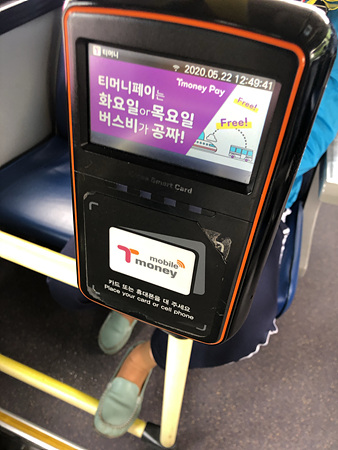terminal: (59, 4, 324, 340)
